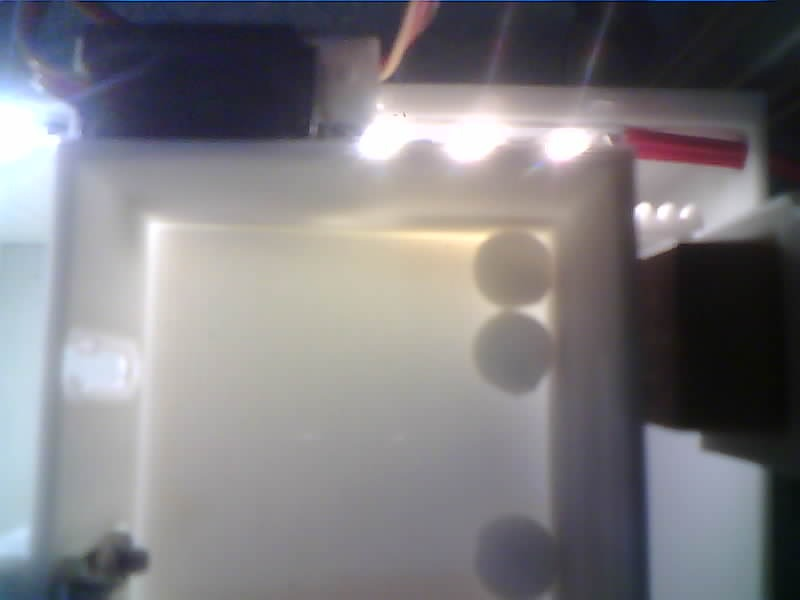Paper: (471, 312, 554, 395), (475, 512, 554, 594), (473, 237, 554, 306)
